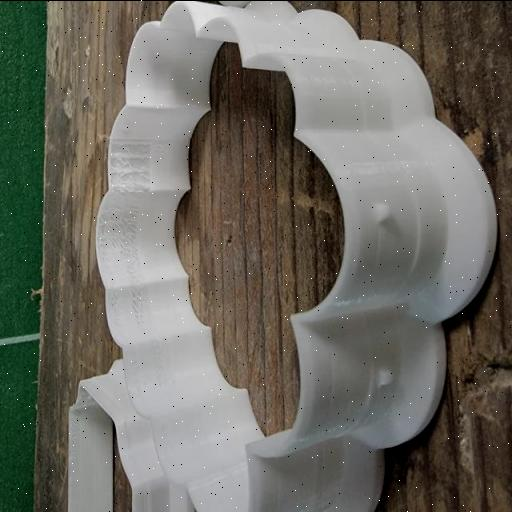blobs: (111, 142, 151, 196), (101, 218, 141, 264), (128, 290, 150, 320), (374, 362, 396, 388), (371, 202, 395, 224)
